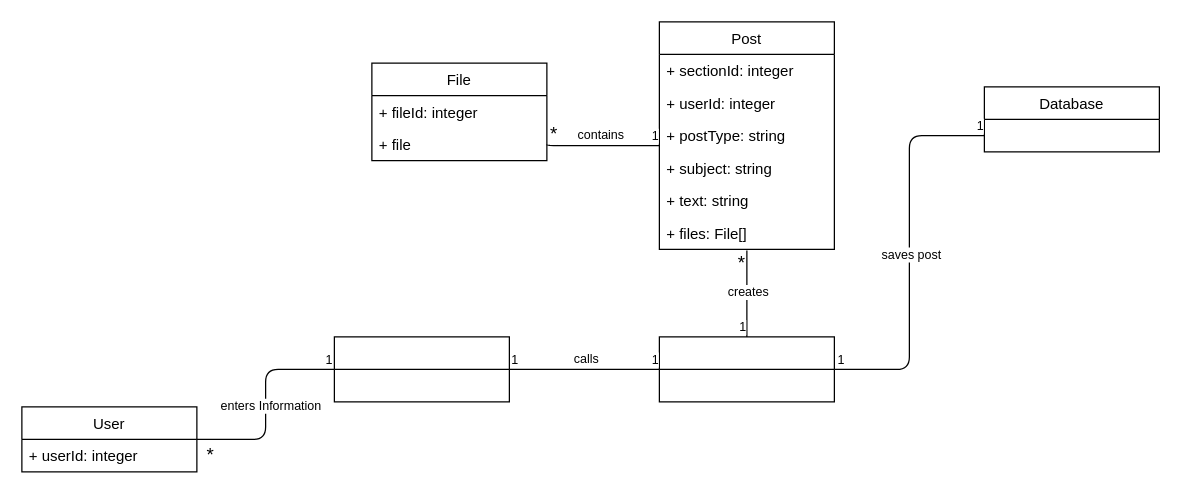
This 1181x498 diagram has some shape labels left out. The shapes that lost their labels are listed below. From the top down, each one's centre as x and y in pixels, then its label:
At [421,369]: "UI".
At [746,369]: "API".
